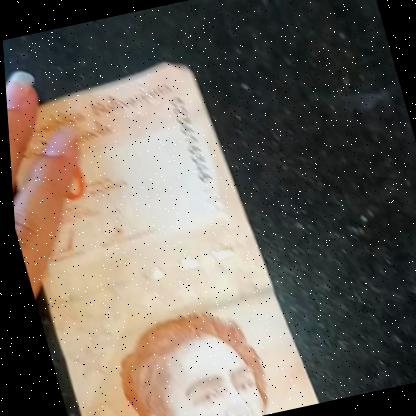twenty-front-vef: (2, 47, 322, 416)
